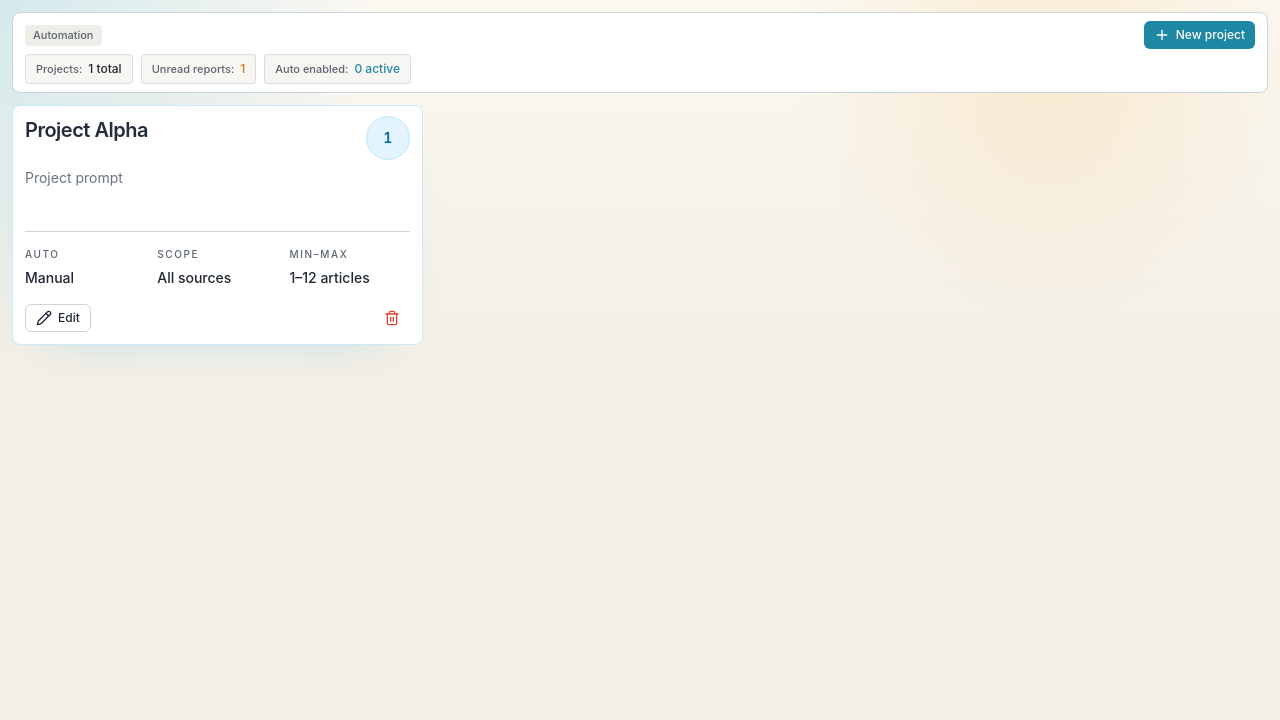
Scenario: Automation › switches to favorites with a first-page reload and favorites-only empty state
The image size is (1280, 720).
What coordinates should you click on to do the following:
click the button that starts with "Project Alpha"
I would click on:
 (86, 130)
Its box is [12,104,423,344].
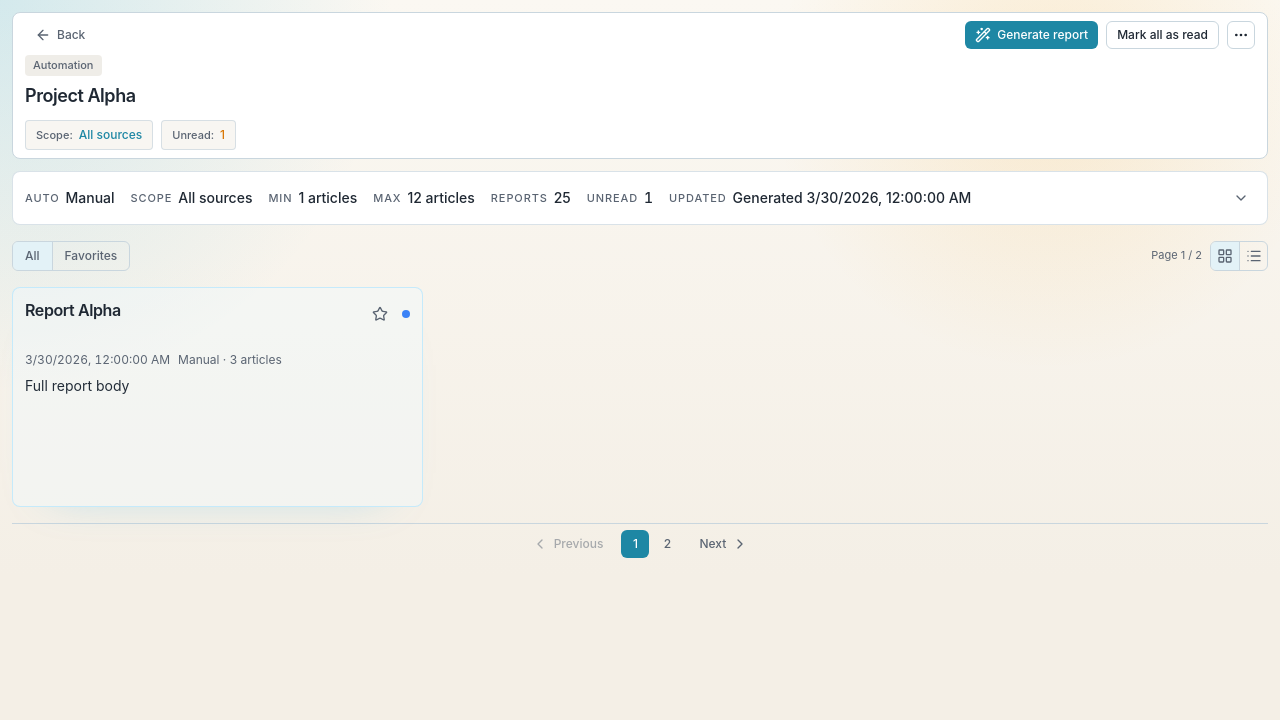
What coordinates should you click on to do the following:
click the button "2"
I would click on:
 (668, 544)
Its box is [654,530,682,558].
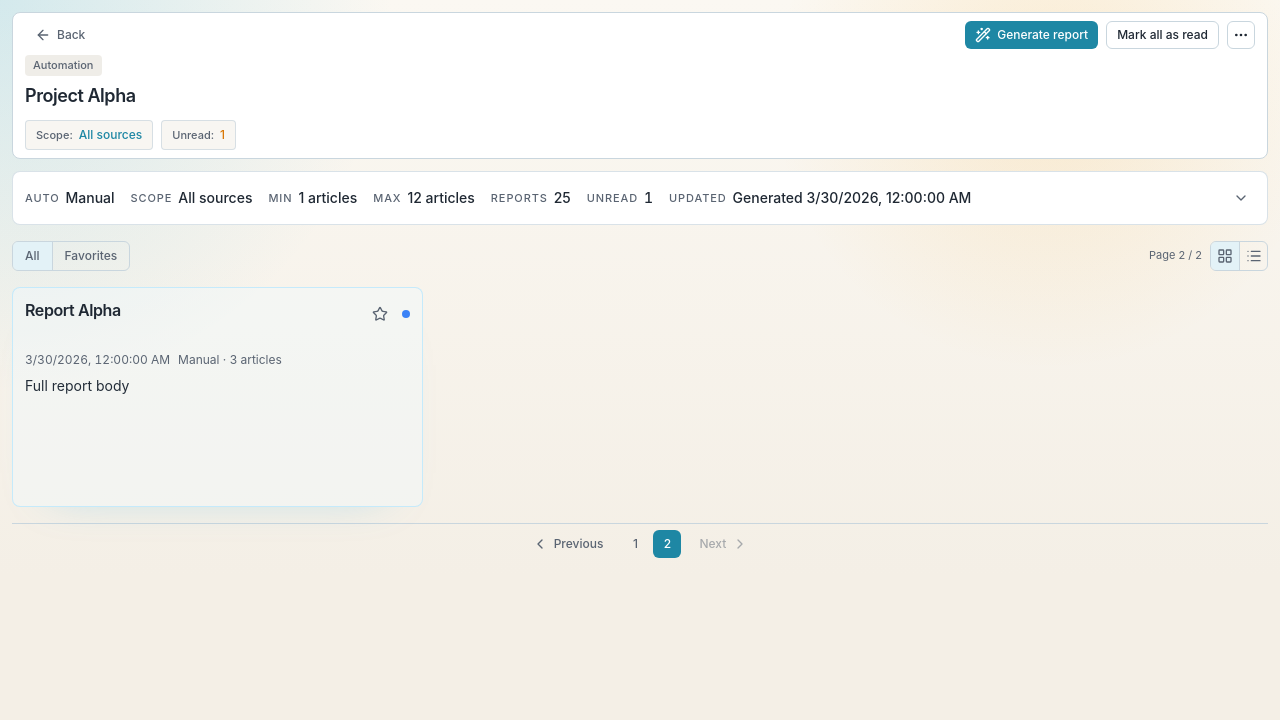
What coordinates should you click on to do the following:
click the button "Favorites"
I would click on:
 (90, 256)
Its box is [52,242,129,270].
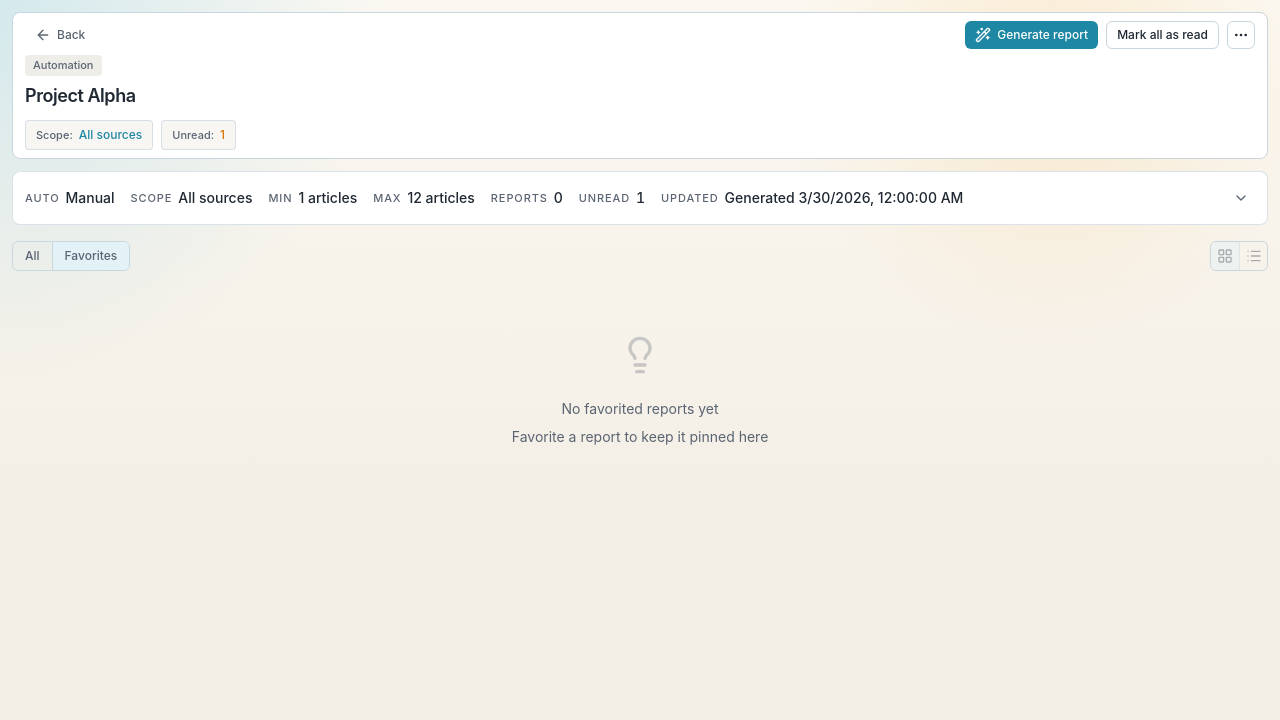
Expected: the text "No favorited reports yet" is shown, [561,398,719,418]
